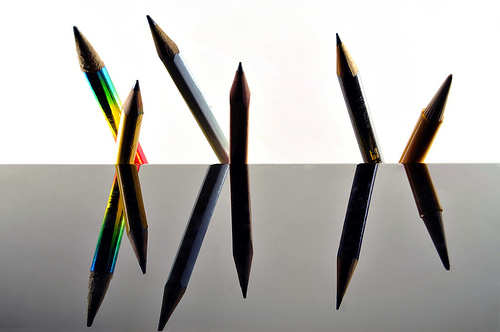pen_tip: (119, 75, 155, 126)
